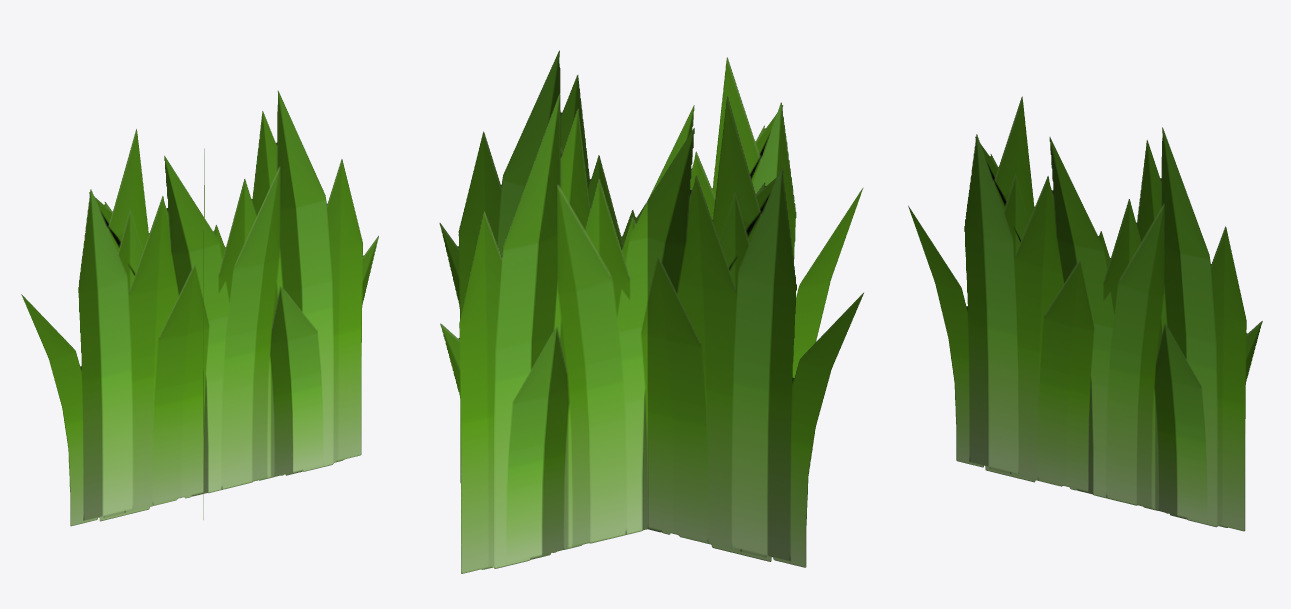
The model's file is Tall Grass Plane.fbx.
The picture shows the model from 3 angles, left to right: view 1: azimuth 30°, elevation 25°; view 2: azimuth 150°, elevation 25°; view 3: azimuth 270°, elevation 25°; orthographic projection. The views are drawn at different scales.
Visible parts, largest first — view 1: Plane_2; view 2: Plane_2; view 3: Plane_2.
Boxes of the visible parts, left/top/right/bottom form: Plane_2: left=21, top=90, right=378, bottom=526; Plane_2: left=439, top=50, right=863, bottom=573; Plane_2: left=908, top=96, right=1262, bottom=531.
Bounding box in the file's own units: 50 × 50 × 43.
Materials: 1 (1 with a texture image).
